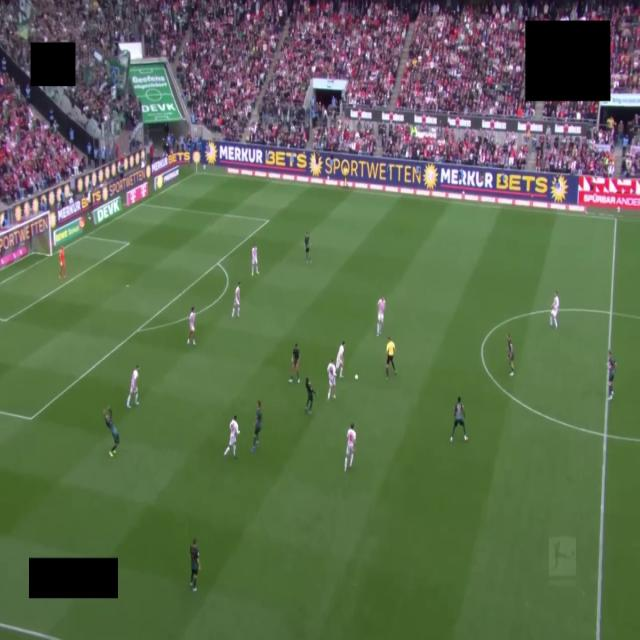ball: (355, 375, 358, 380)
player: (450, 397, 467, 442), (104, 408, 119, 457), (224, 416, 239, 458), (345, 423, 356, 471), (252, 401, 262, 452), (190, 538, 199, 592), (127, 366, 138, 408), (608, 350, 616, 401), (305, 378, 316, 414), (289, 344, 299, 383), (336, 341, 346, 379), (327, 360, 336, 399), (550, 291, 559, 328), (377, 296, 385, 336), (507, 334, 514, 376), (232, 282, 240, 318), (188, 307, 195, 345), (59, 247, 66, 279), (252, 244, 258, 276), (304, 232, 310, 263)
referee: (386, 337, 396, 378)
